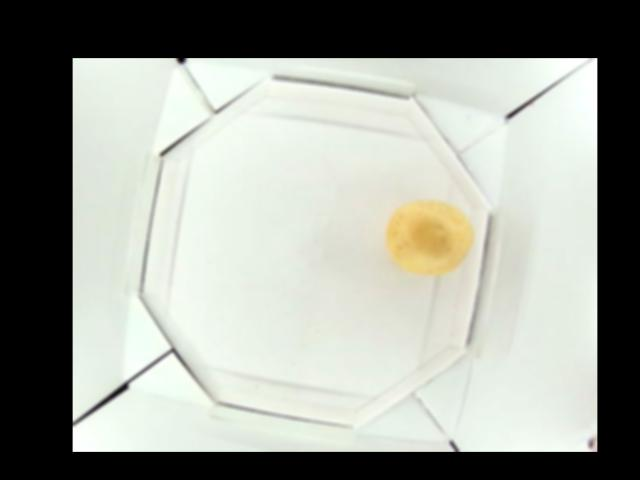Potato: (385, 199, 473, 277)
